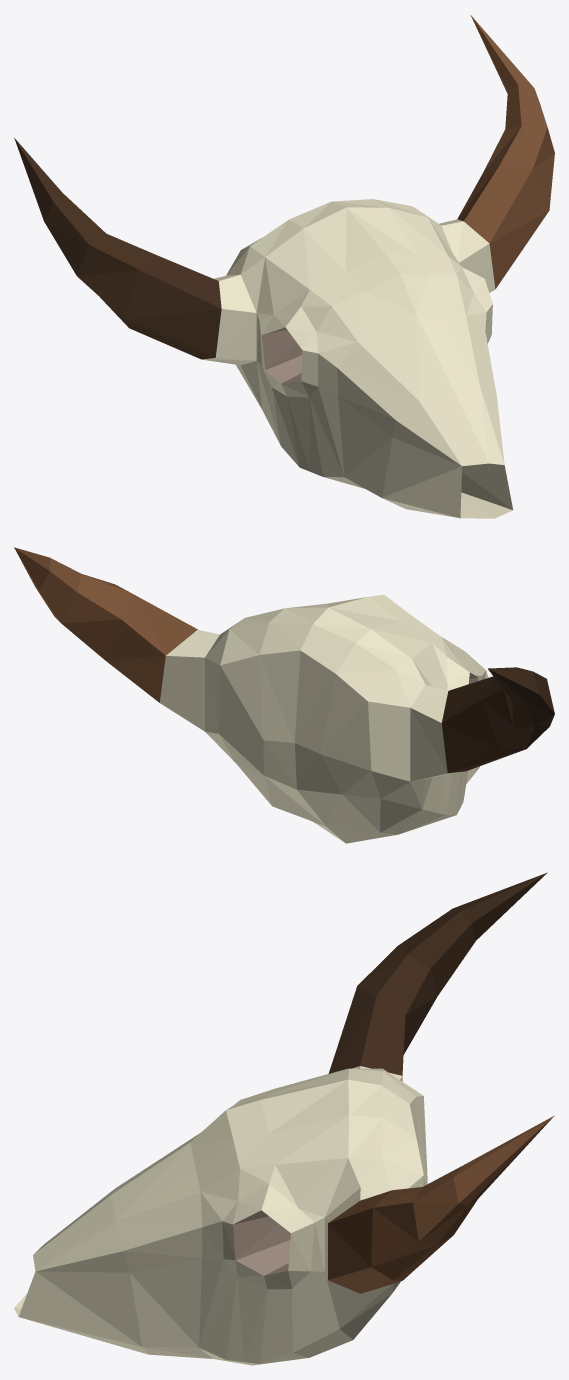
The model's file is skull.obj.
3 views of the same model, one above another, from view 1: azimuth 30°, elevation 25°; view 2: azimuth 150°, elevation 25°; view 3: azimuth 270°, elevation 25° (orthographic). The views are drawn at different scales.
Bounding box in the file's own units: 4.36 × 2.66 × 3.65.
